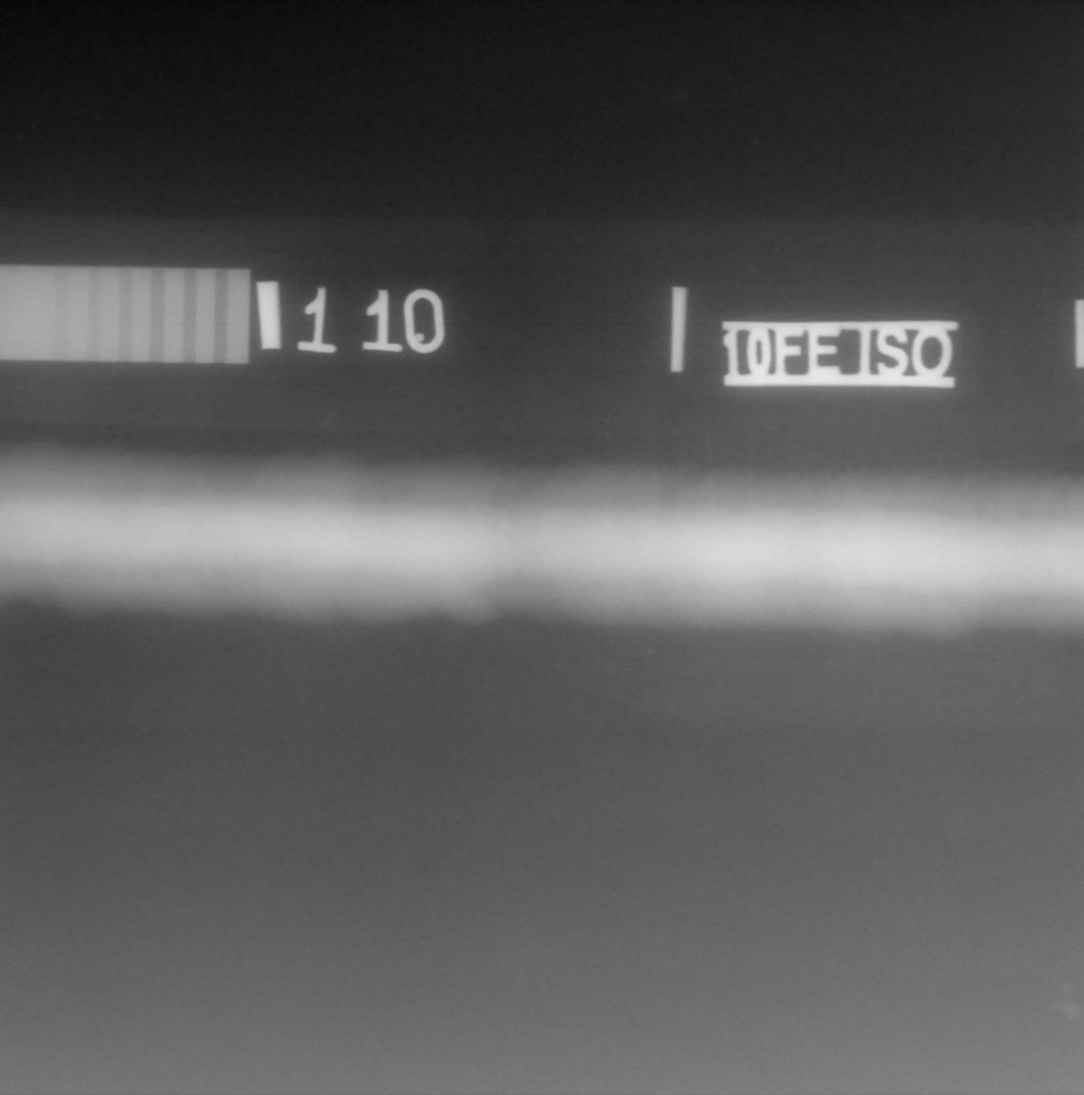Inclusion: (831, 532, 850, 542)
Pore/Porosity: (508, 536, 512, 539)
